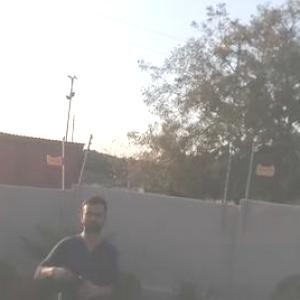follow: (24, 182, 128, 299)
